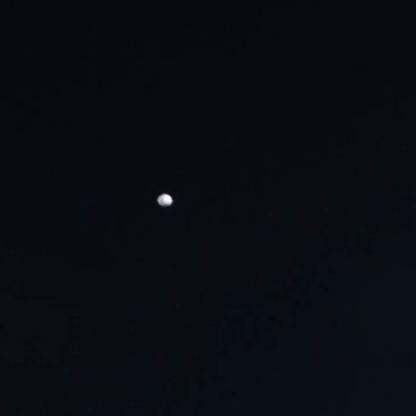ball: (154, 187, 182, 208)
